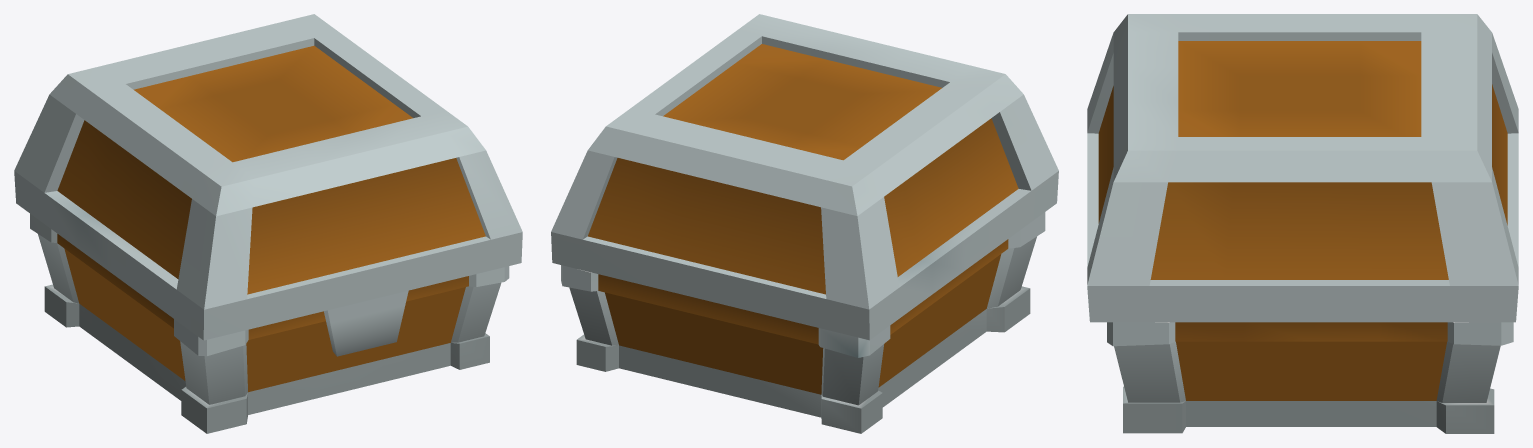
Rendered from Bau.fbx.
The picture shows the model from 3 angles, left to right: view 1: azimuth 30°, elevation 25°; view 2: azimuth 150°, elevation 25°; view 3: azimuth 270°, elevation 25°; orthographic projection. The views are drawn at different scales.
Parts seen in each view (by area): view 1: Bau; view 2: Bau; view 3: Bau.
Boxes of the visible parts, x1,y1,x2,y2 form: Bau: (14, 14, 522, 433); Bau: (551, 14, 1058, 433); Bau: (1087, 14, 1518, 433).
Bounding box in the file's own units: 1415 × 1015 × 1461.
